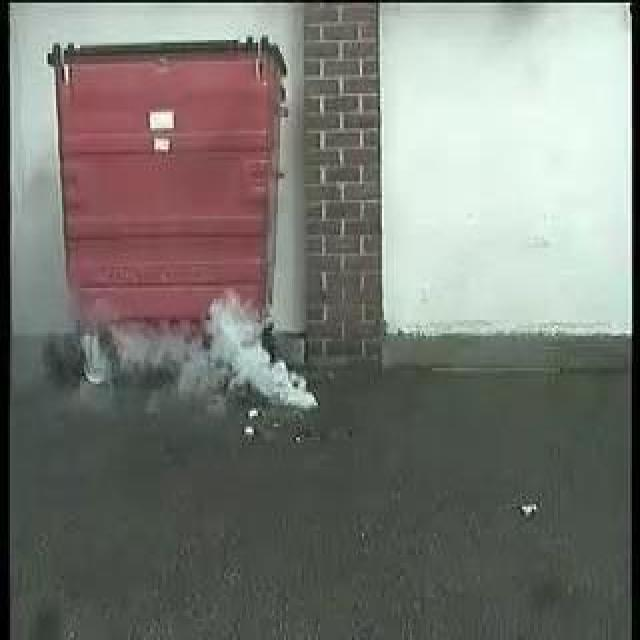Smoke: (122, 296, 314, 408)
